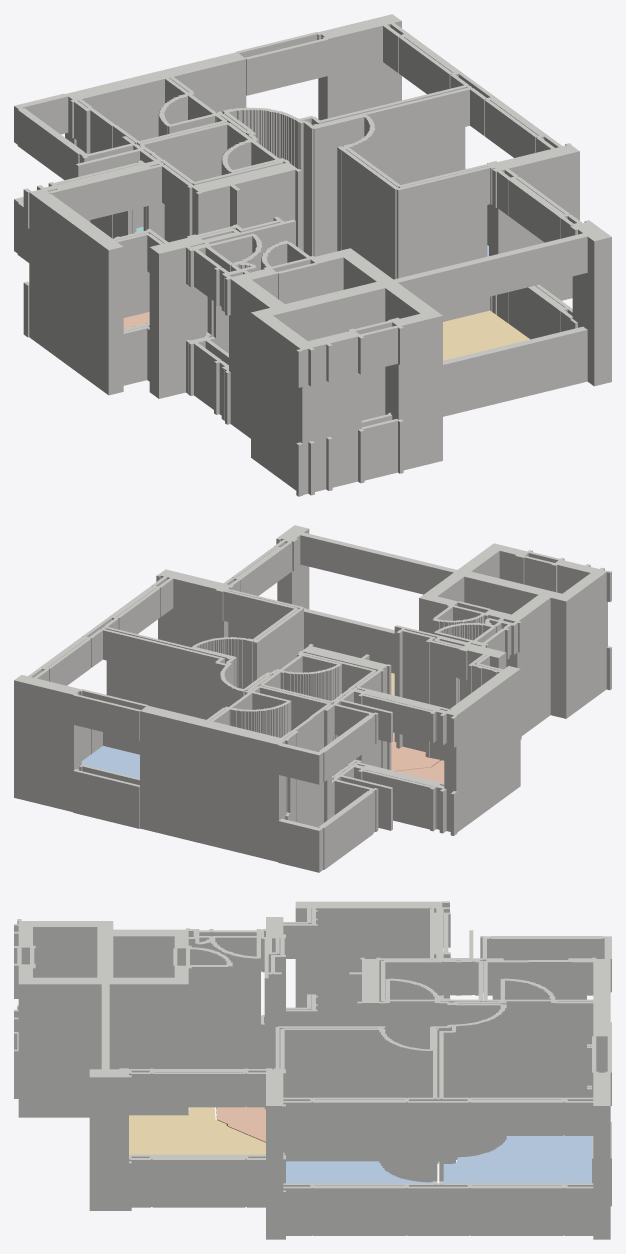
3 renders of one model, top to bottom at view 1: azimuth 30°, elevation 25°; view 2: azimuth 150°, elevation 25°; view 3: azimuth 270°, elevation 25°, orthographic. The views are drawn at different scales.
Parts seen in each view (by area): view 1: walls, room:living:3; view 2: walls, room:bedroom:6, room:kitchen:5, room:kitchen:1; view 3: walls, room:bedroom:6, room:living:3, room:bedroom:4, room:kitchen:5.
Boxes of the visible parts, x1,y1,x2,y2 form: walls: (14,14,611,496); room:living:3: (443,310,529,360); walls: (14,525,611,872); room:bedroom:6: (81,746,139,778); room:kitchen:5: (391,732,440,771); room:kitchen:1: (396,760,444,782); walls: (14,901,611,1239); room:bedroom:6: (443,1135,591,1183); room:living:3: (129,1107,265,1155); room:bedroom:4: (286,1161,432,1183); room:kitchen:5: (216,1106,265,1142).
Bounding box in the file's own units: 9.22 × 2.8 × 11.37.
